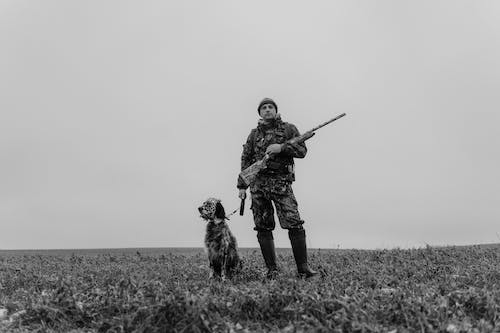gun: (237, 111, 348, 188)
